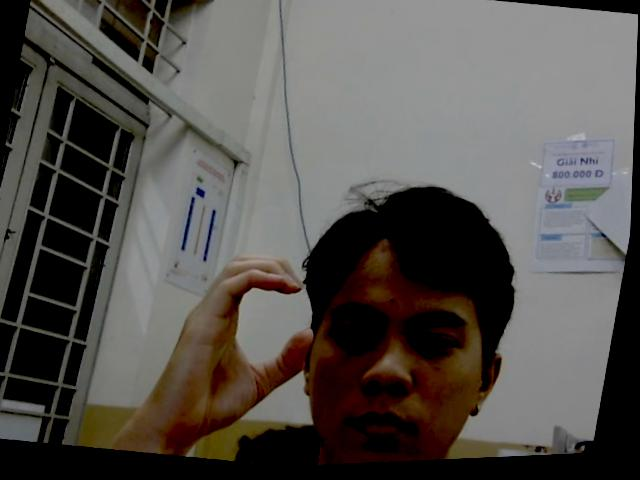C: (141, 239, 330, 457)
